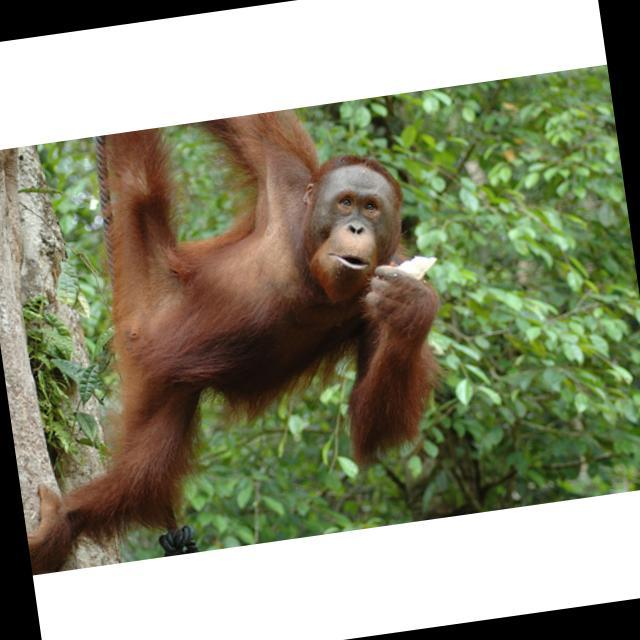Orangutan: (0, 120, 450, 551)
